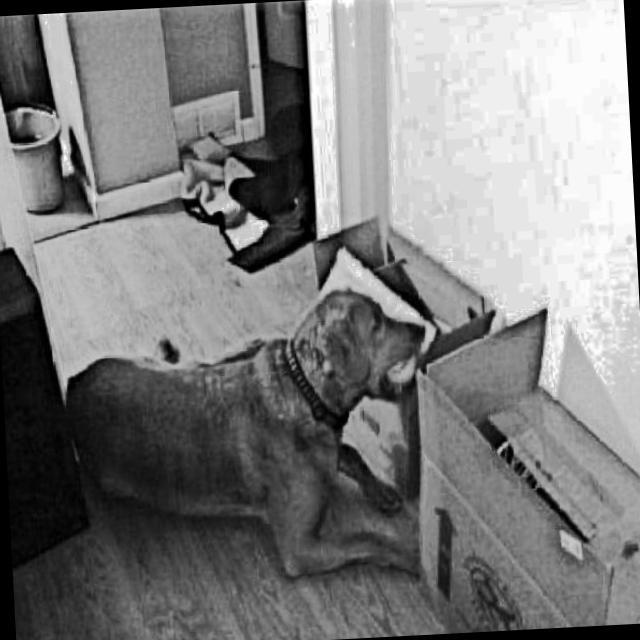Dog: (54, 276, 446, 600)
